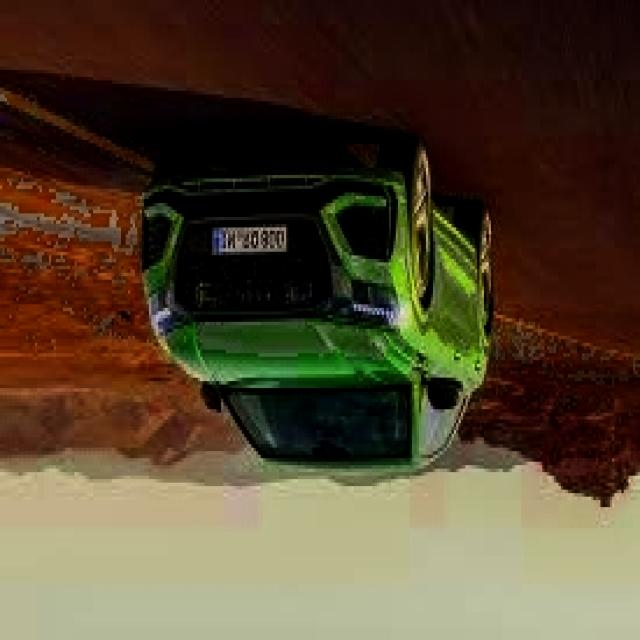green: (140, 140, 477, 497)
